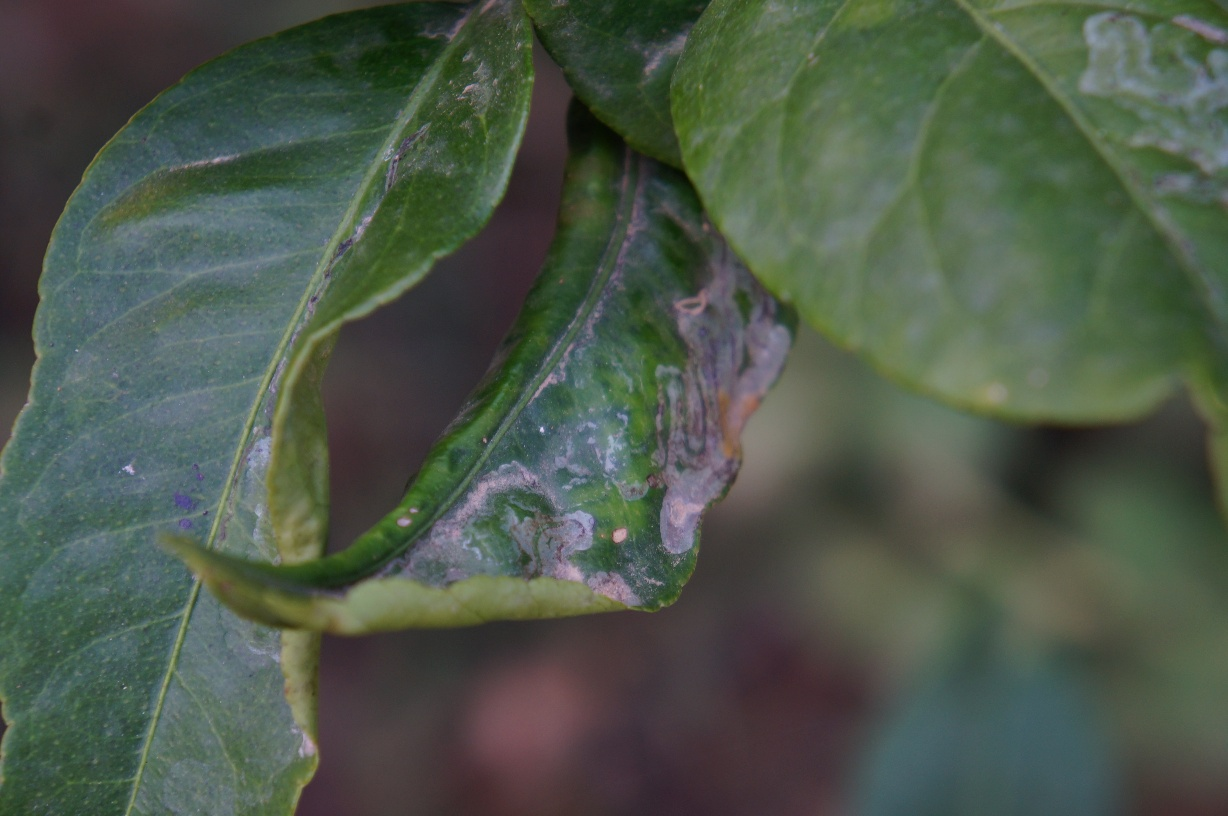curly: (152, 53, 810, 634)
damage: (352, 460, 671, 618), (651, 250, 793, 559)
